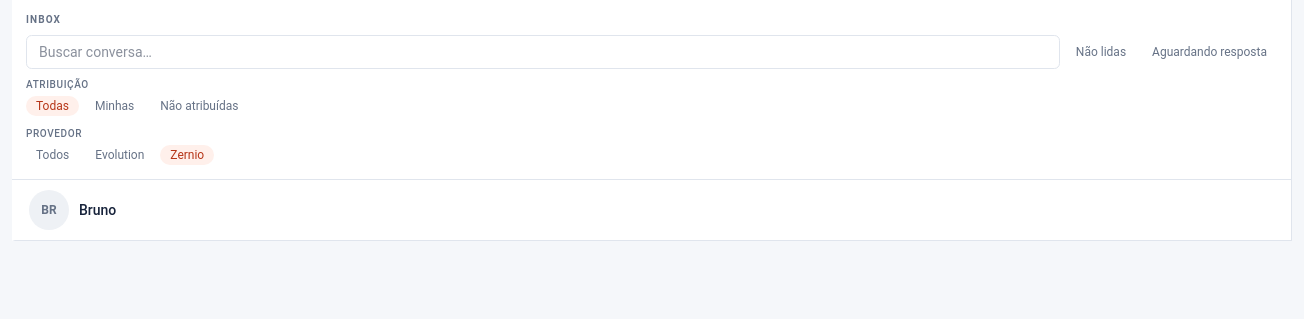
Scenario: ConversationsList provider filter (F4b) › estado inicial respeita o escopo global (useProviderScope), sem alterá-lo ao trocar localmente
Check: the text "Ana" is not shown
Check: the text "Bruno" is shown, box [79,200,116,220]
# Changing the tab locally must NOT call the global setScope.
Click the button "Todos".
click(53, 155)  # box [26,145,79,165]
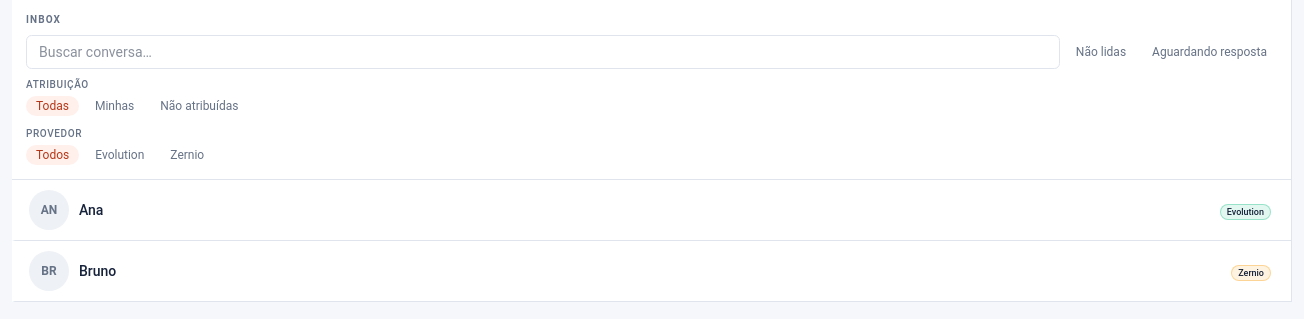
Check: the text "Ana" is shown, box [79,200,103,220]
